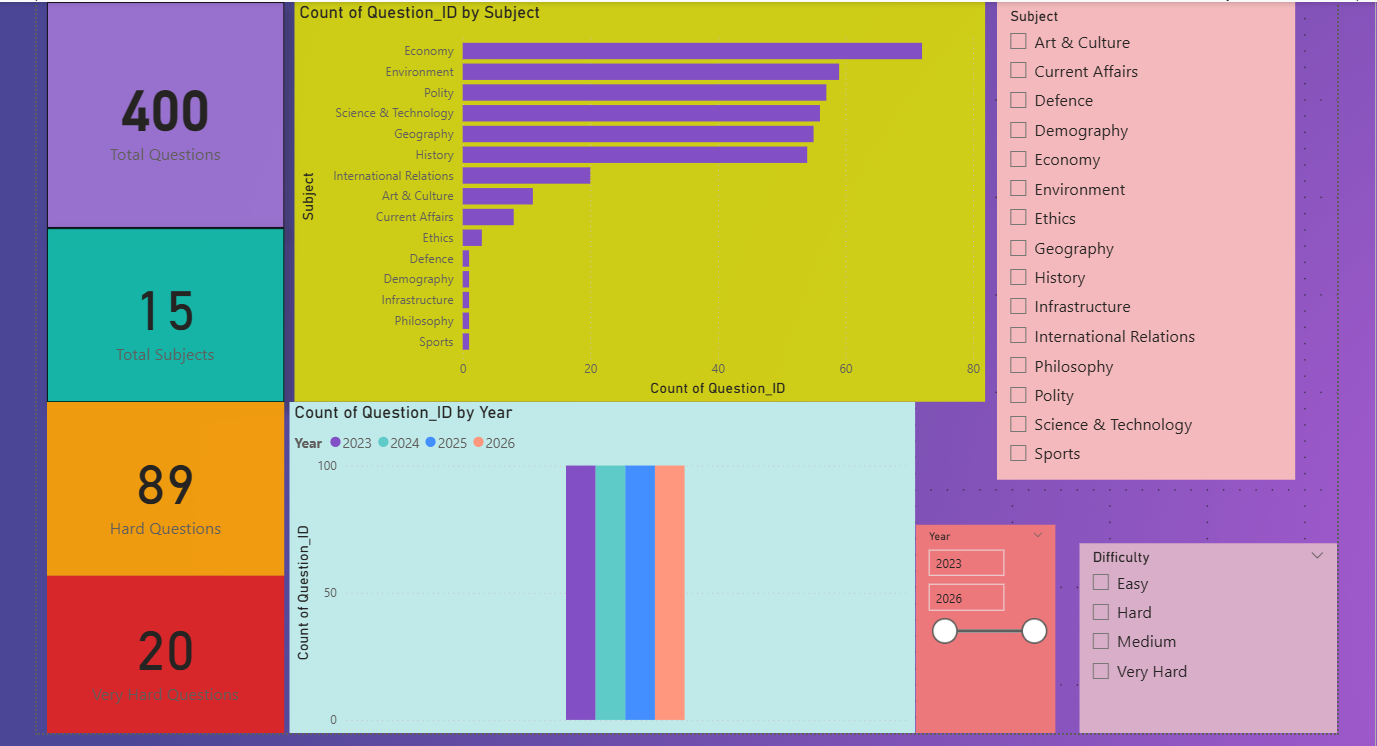

The page's visual inventory and layout, read from the dashboard file:
{"tool":"powerbi","page":{"name":"Page 1","canvas":[1280,720],"ordinal":0},"visuals":[{"type":"card","fields":{"Values":["Questions.Total Questions"]},"box":[9.7,0,233.7,222.6],"z":0},{"type":"card","fields":{"Values":["Questions.Total Subjects"]},"box":[9.7,222.6,233.7,171.1],"z":1000},{"type":"card","fields":{"Values":["Questions.Hard Questions"]},"box":[9.7,393.7,233.7,171.1],"z":2000},{"type":"card","fields":{"Values":["Questions.Very Hard Questions"]},"box":[9.7,564.9,233.7,155.8],"z":3000},{"type":"clusteredBarChart","fields":{"Y":["CountNonNull(Questions.Question_ID)"],"Category":["Questions.Subject"]},"box":[253.2,0,680.3,393.7],"z":4000},{"type":"clusteredColumnChart","fields":{"Series":["Questions.Year"],"Y":["CountNonNull(Questions.Question_ID)"]},"box":[249,393.7,616.3,327],"z":5000},{"type":"slicer","fields":{"Values":["Questions.Year"]},"box":[865.4,514.8,137.7,205.9],"z":6000},{"type":"slicer","fields":{"Values":["Questions.Subject"]},"box":[944.7,0,293.6,470.3],"z":7000},{"type":"slicer","fields":{"Values":["Questions.Difficulty"]},"box":[1026.8,532.9,253.2,187.8],"z":8000}]}

Visuals, with their boxes in screenshot pixels (x1, y1, x2, y2):
card - Questions.Total Questions: <box>42,0,281,224</box>
card - Questions.Total Subjects: <box>42,224,281,399</box>
card - Questions.Hard Questions: <box>42,399,281,573</box>
card - Questions.Very Hard Questions: <box>42,574,281,733</box>
clusteredBarChart - CountNonNull(Questions.Question_ID) x Questions.Subject: <box>291,0,986,399</box>
clusteredColumnChart - Questions.Year x CountNonNull(Questions.Question_ID): <box>287,399,916,733</box>
slicer - Questions.Year: <box>916,522,1057,733</box>
slicer - Questions.Subject: <box>997,0,1297,477</box>
slicer - Questions.Difficulty: <box>1081,541,1340,733</box>
